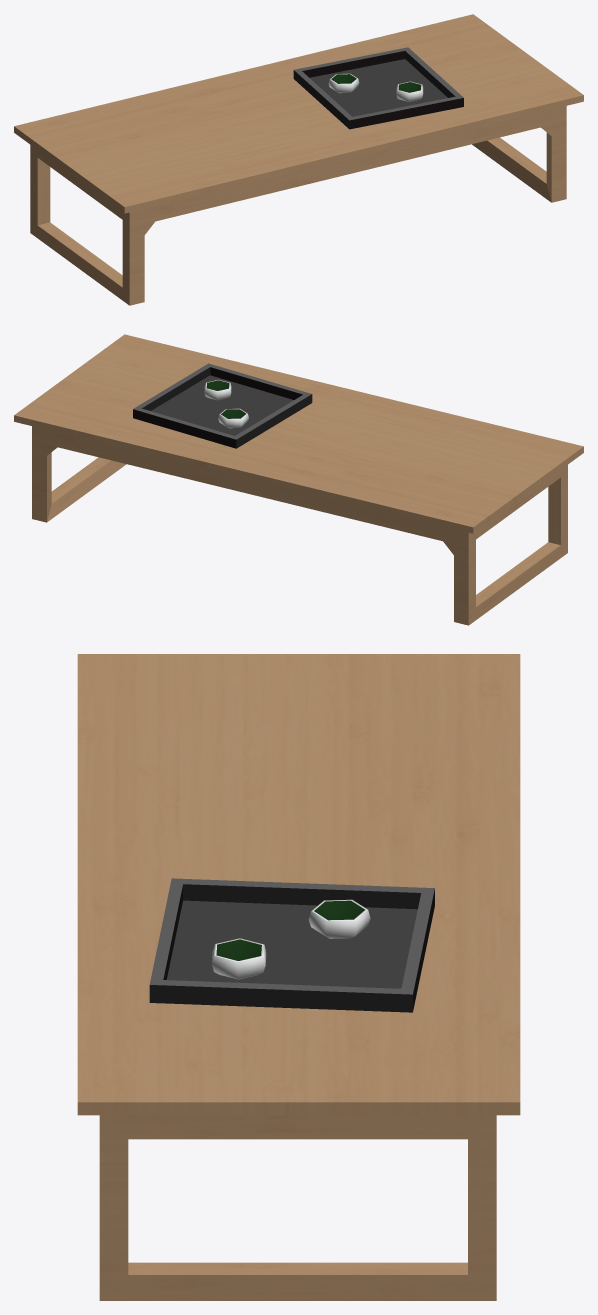
File: M_chaji03.FBX
The picture shows the model from 3 angles, top to bottom: view 1: azimuth 30°, elevation 25°; view 2: azimuth 150°, elevation 25°; view 3: azimuth 270°, elevation 25°; orthographic projection. The views are drawn at different scales.
Parts seen in each view (by area): view 1: M_chaji03_01, M_chaji03_02; view 2: M_chaji03_01, M_chaji03_02; view 3: M_chaji03_01, M_chaji03_02.
Part boxes in pixels (<box>): M_chaji03_01: <box>14,14,583,305</box>; M_chaji03_02: <box>293,47,463,129</box>; M_chaji03_01: <box>14,334,583,625</box>; M_chaji03_02: <box>133,363,312,448</box>; M_chaji03_01: <box>77,654,520,1300</box>; M_chaji03_02: <box>149,878,434,1012</box>.
Bounding box in the file's own units: 3 × 0.7232 × 1.25.
